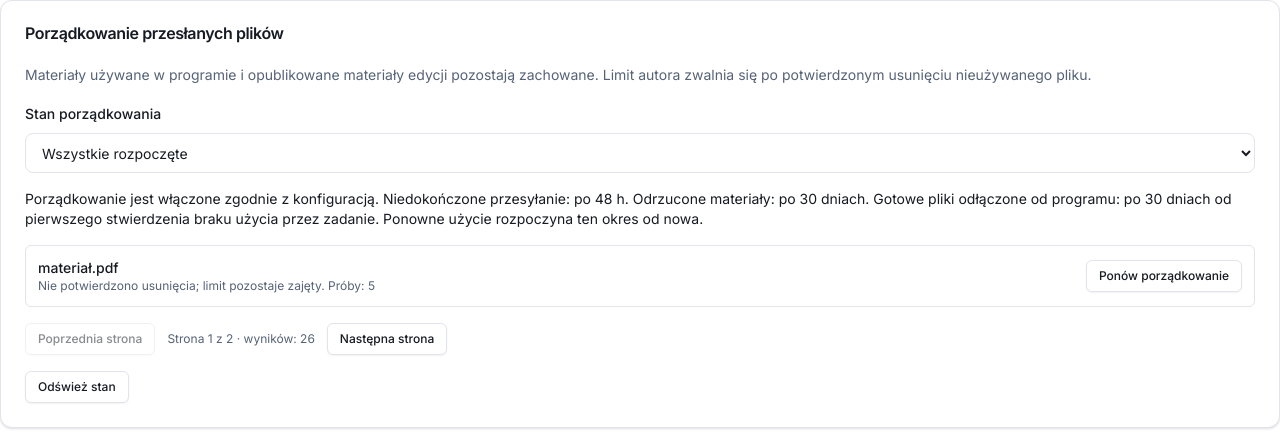
Test: cleanup queue interaction › changes pages and resets to page 1 when the filter changes
This screenshot has width=1280, height=446.
Check: the text "materiał.pdf" is shown, box [38, 259, 119, 276]
Check: the button "Poprzednia strona" is disabled, box [25, 323, 155, 355]
Step 1. Click the button "Następna strona" → (387, 339), box [327, 323, 447, 355]
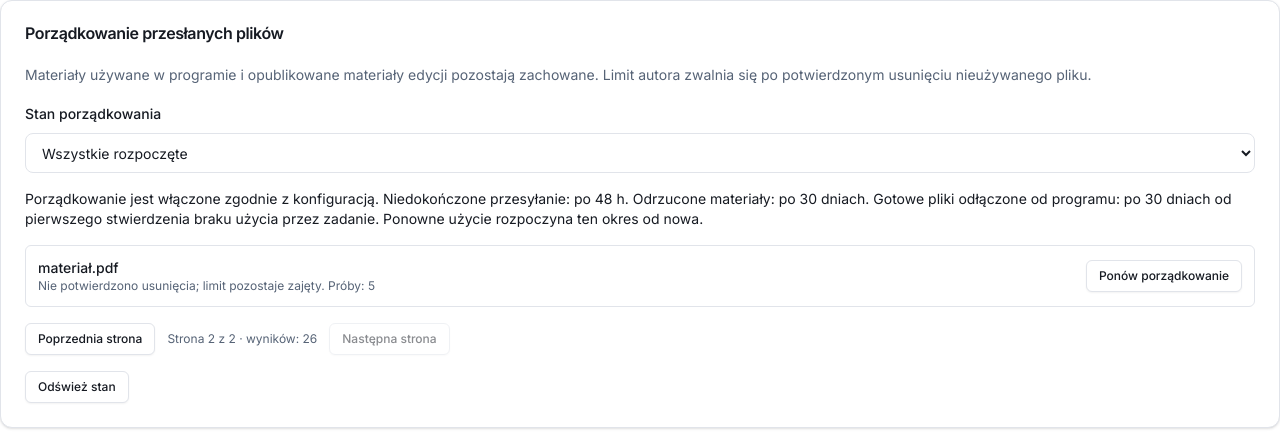
Check: the text "Strona 2 z 2 · wyników: 26" is shown, box [167, 331, 317, 347]
Check: the button "Następna strona" is disabled, box [329, 323, 450, 355]
Step 2. Select "Wyczerpane próby — wymagają uwagi" in the dropdown labelled "Stan porządkowania" → (640, 153), box [25, 133, 1255, 173]
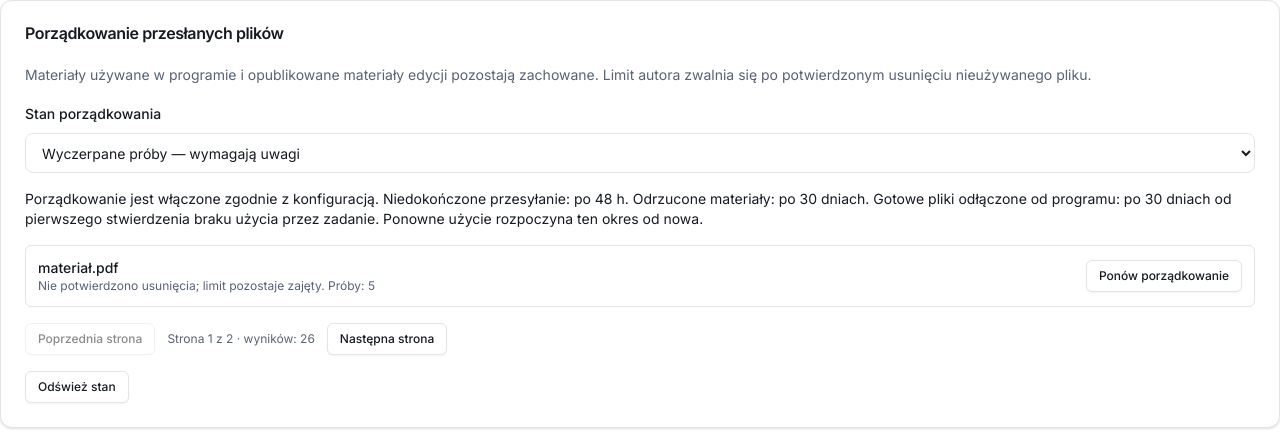
Check: the text "Strona 1 z 2 · wyników: 26" is shown, box [167, 331, 315, 347]
